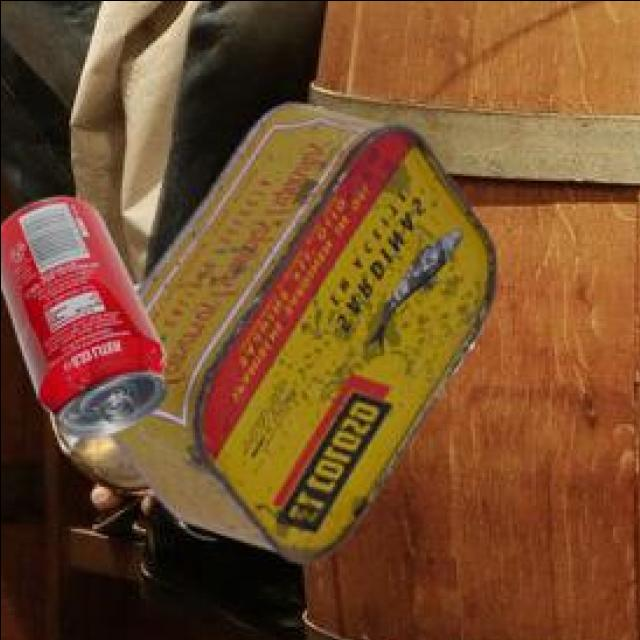logam: (113, 99, 499, 559), (0, 193, 169, 433), (54, 408, 158, 489)
